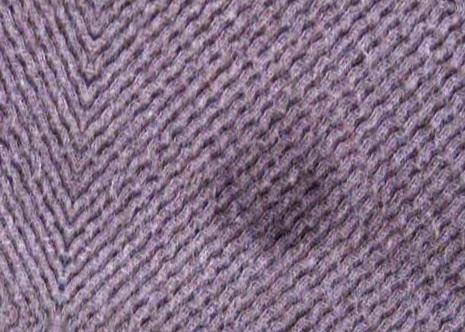stain: (211, 131, 352, 259)
